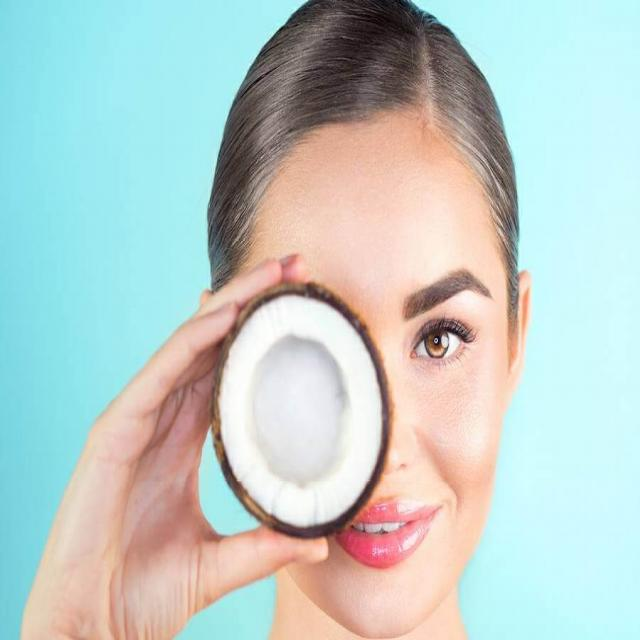coconut: (206, 281, 395, 542)
